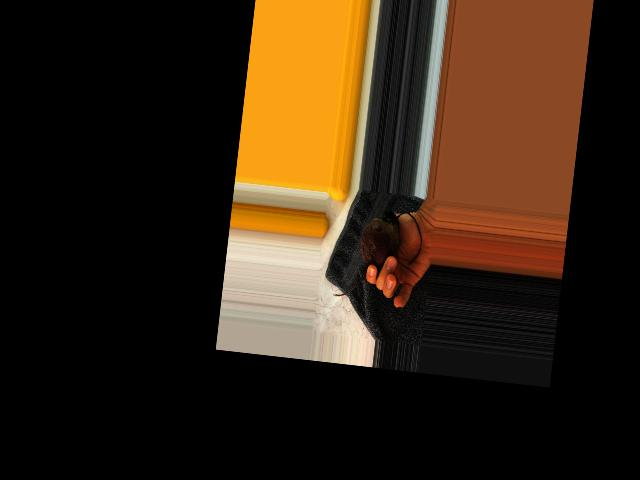beet: (333, 206, 425, 305)
